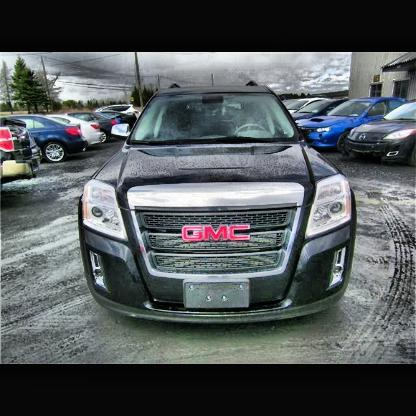GMC Terrain SUV 2012: (82, 75, 357, 302)
